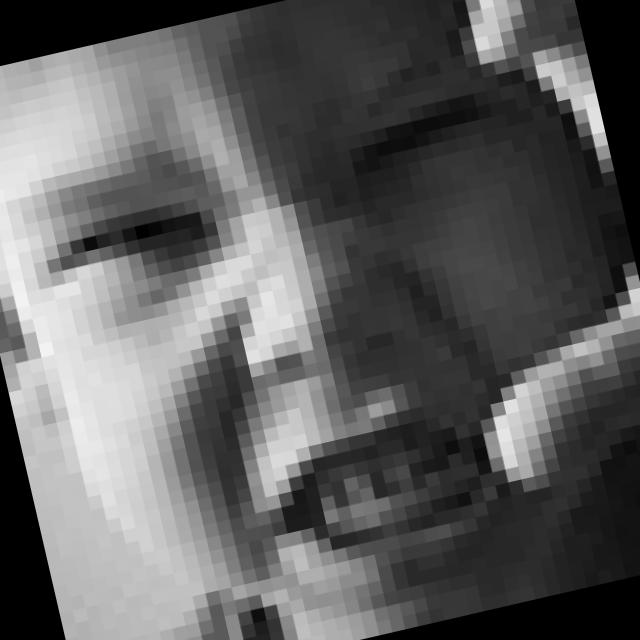angry: (3, 23, 604, 640)
